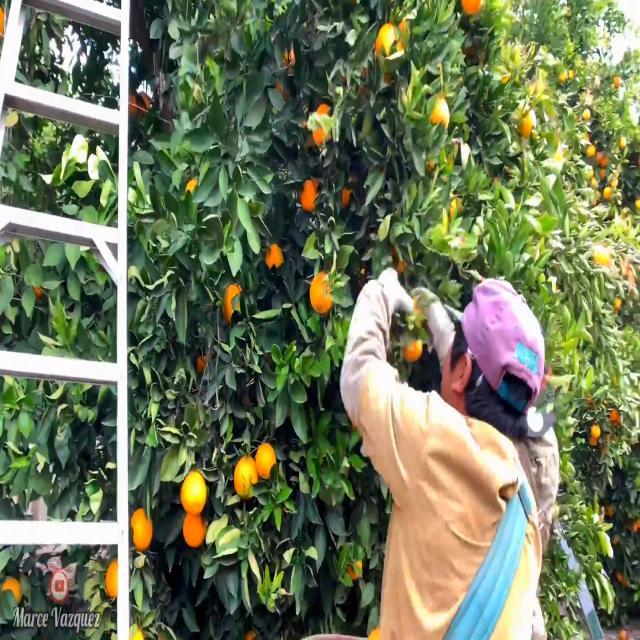Jeruk Sudah Matang: (176, 464, 212, 519), (230, 446, 261, 507), (307, 262, 337, 322), (128, 498, 158, 557), (178, 504, 210, 551), (426, 86, 452, 134), (374, 18, 400, 60), (255, 439, 280, 482), (298, 176, 322, 213), (222, 280, 242, 322), (104, 556, 122, 600), (264, 242, 288, 271)
